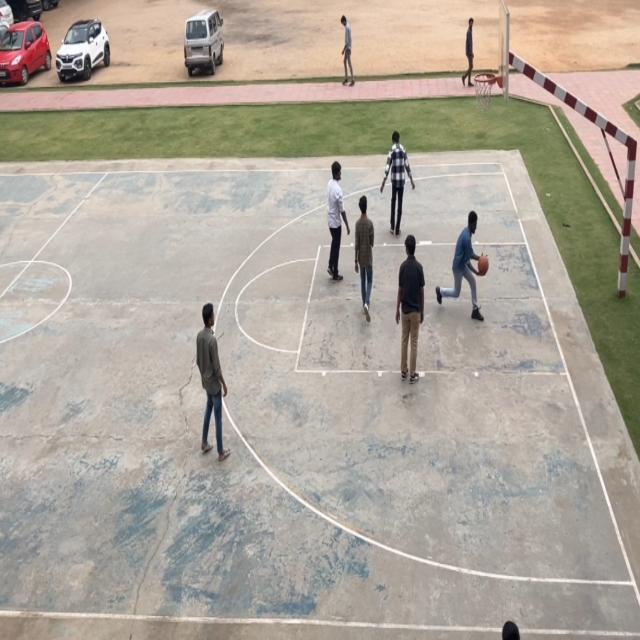basketball: (476, 252, 488, 276)
hoop: (474, 71, 495, 112)
